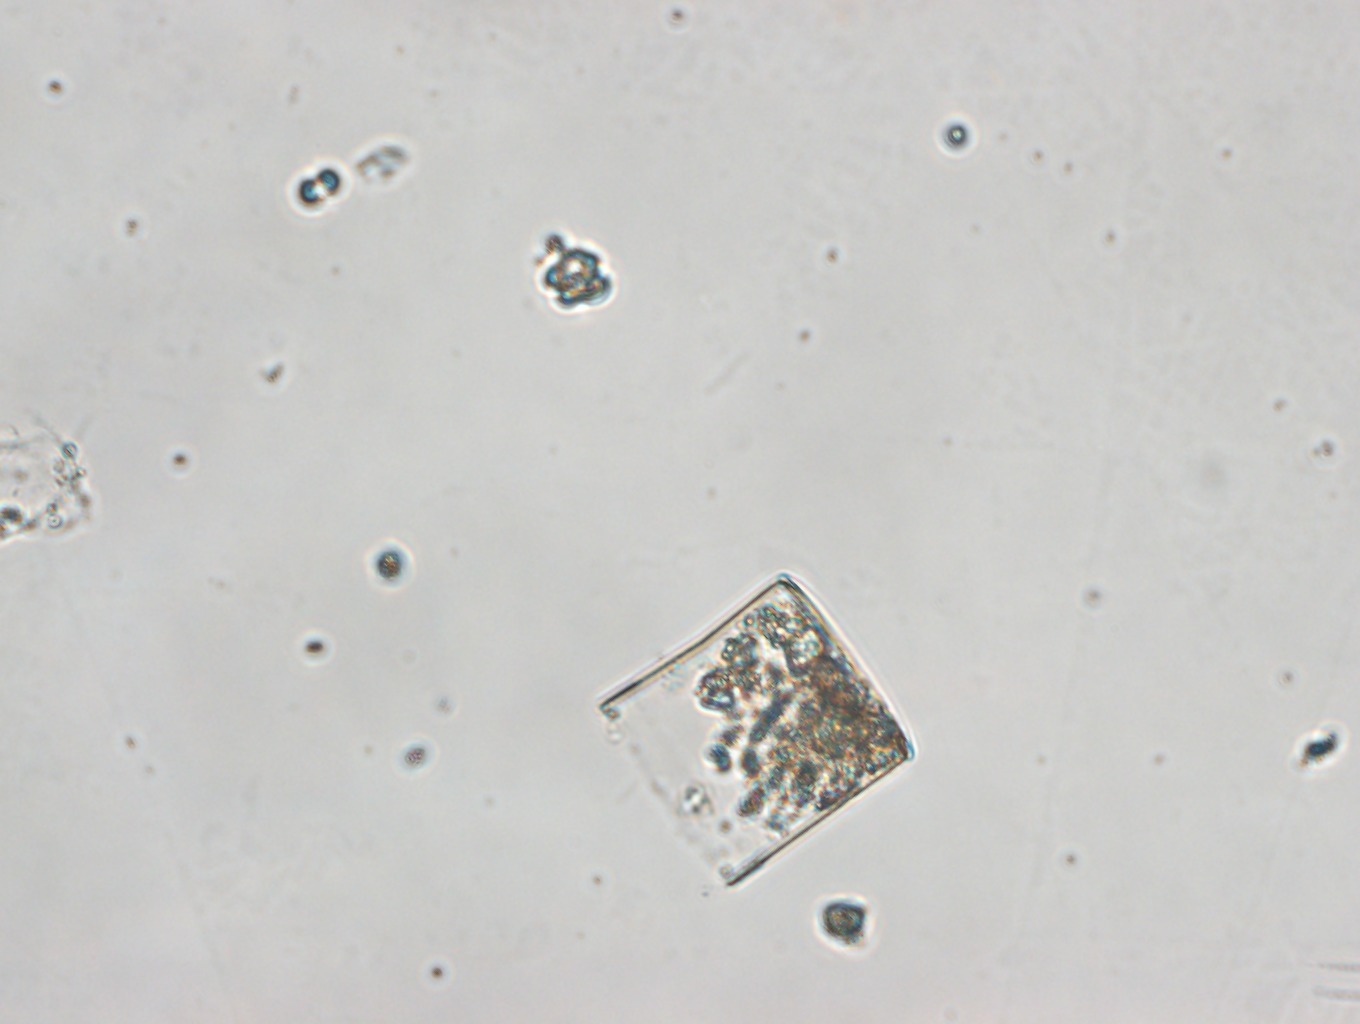guinardia flaccida: (596, 577, 914, 887)
